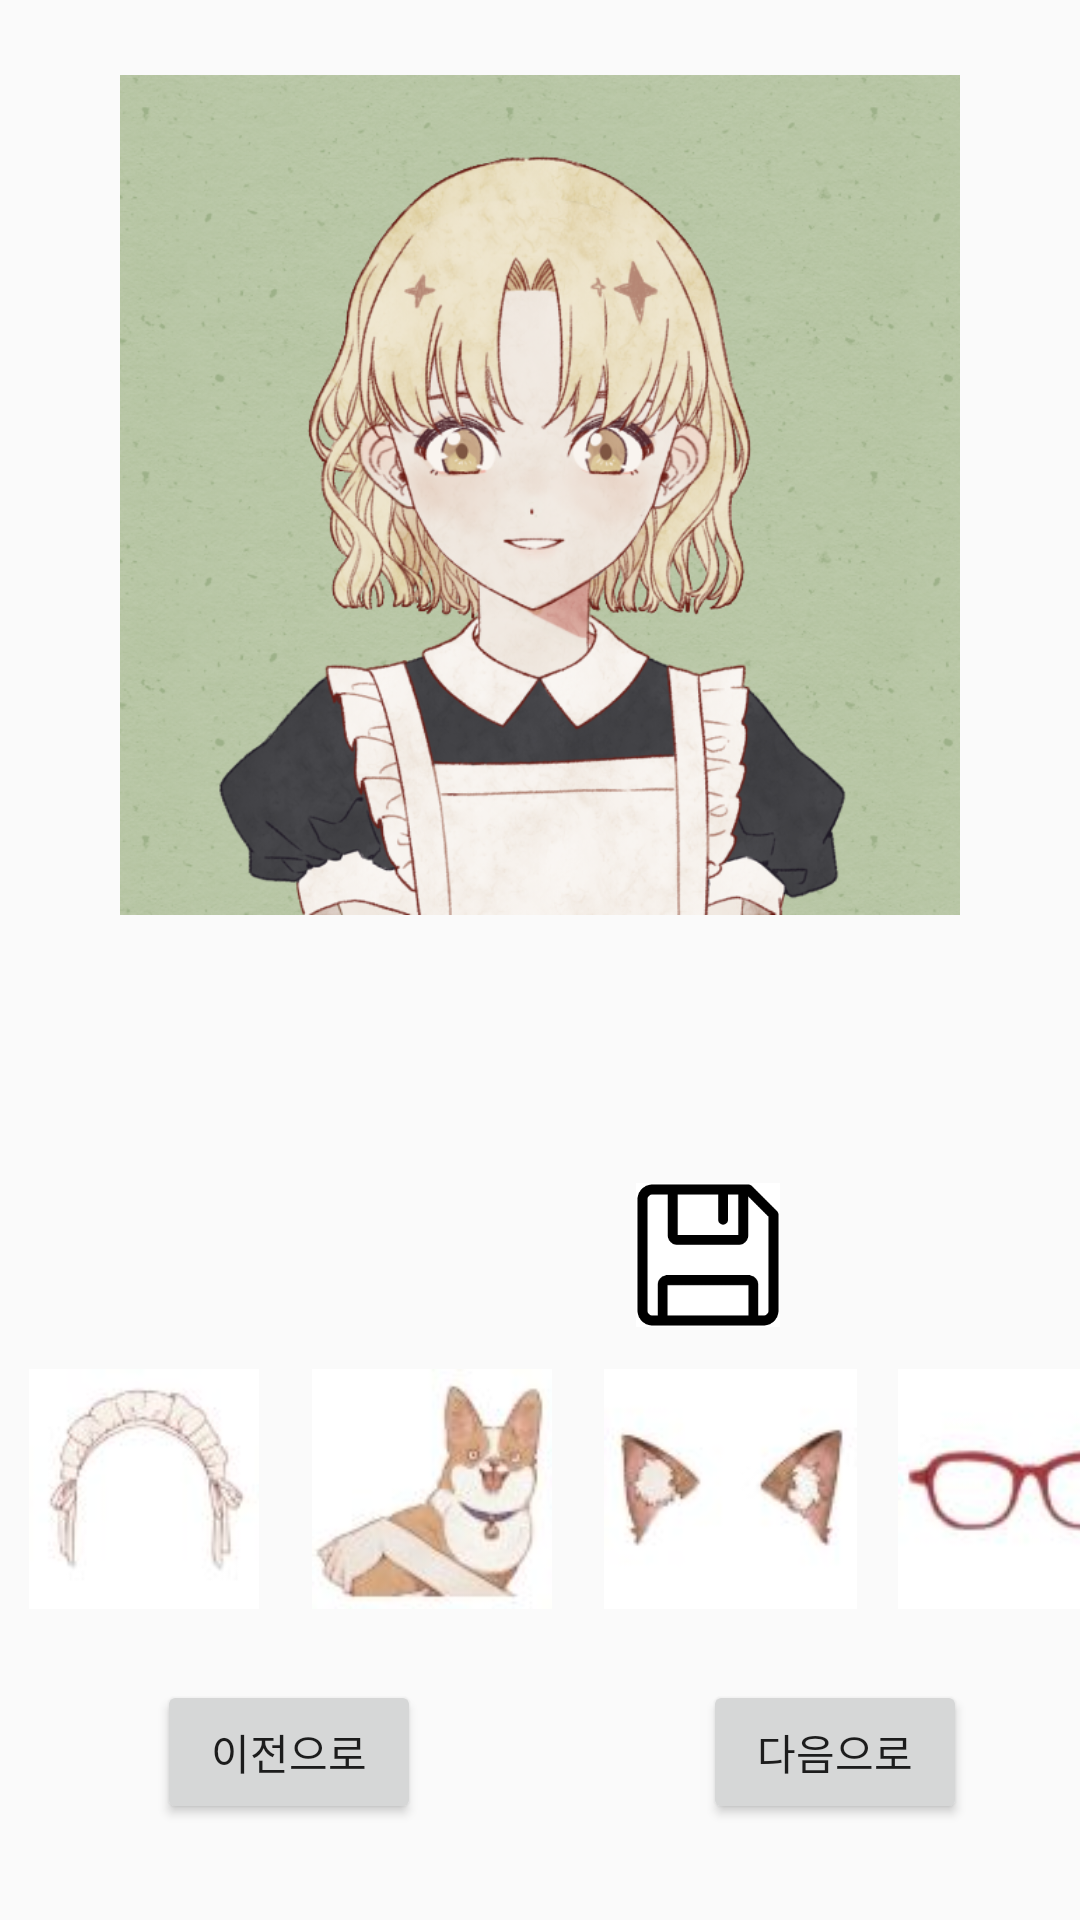

Point at icon controls on the screen. Image size 1080w x 1920h, points as (x=x, y=y).
save: (x=708, y=1255)
